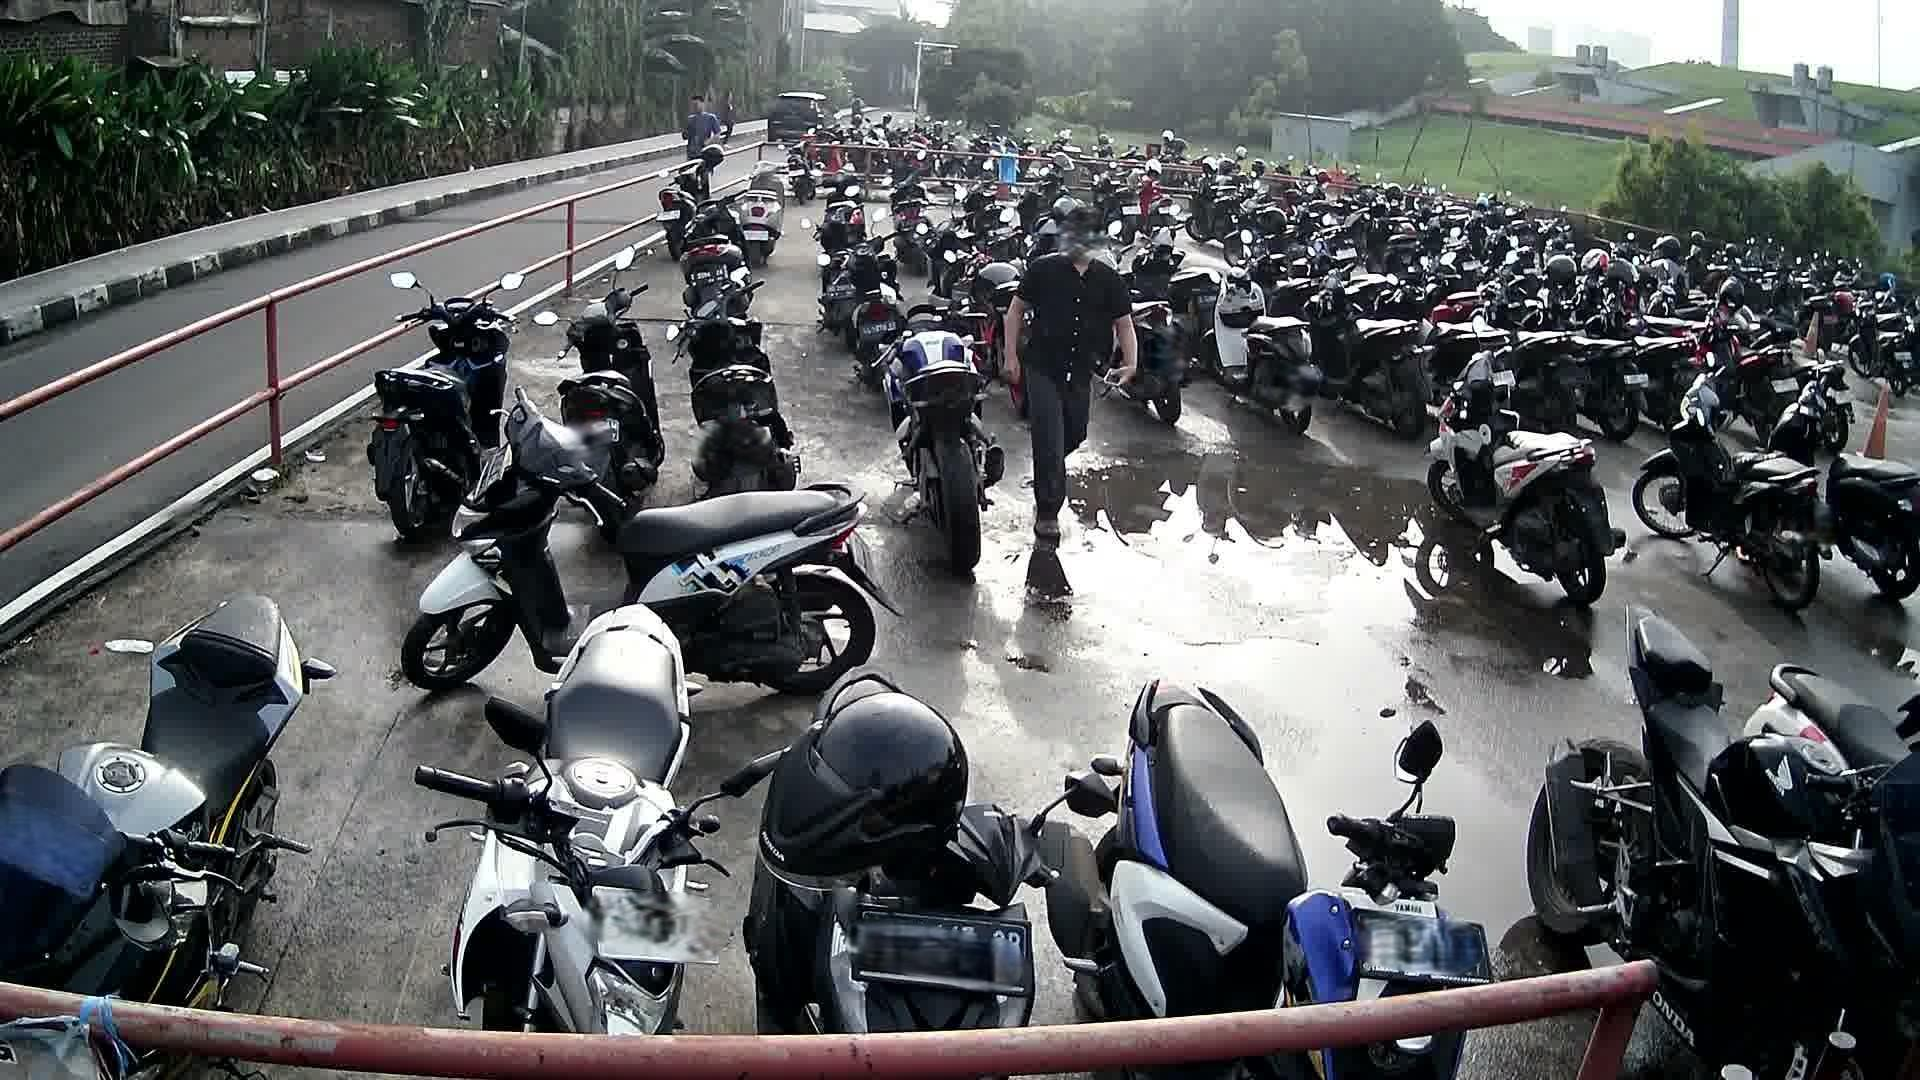motorcycle: (1528, 597, 1920, 1080), (1038, 676, 1506, 1080), (3, 589, 344, 1080), (398, 389, 911, 692), (413, 607, 740, 1040), (748, 669, 1064, 1026), (1422, 318, 1629, 612), (1634, 348, 1834, 609), (368, 265, 524, 539), (866, 278, 1007, 578), (533, 248, 669, 531), (1768, 355, 1920, 603), (662, 256, 804, 492)
